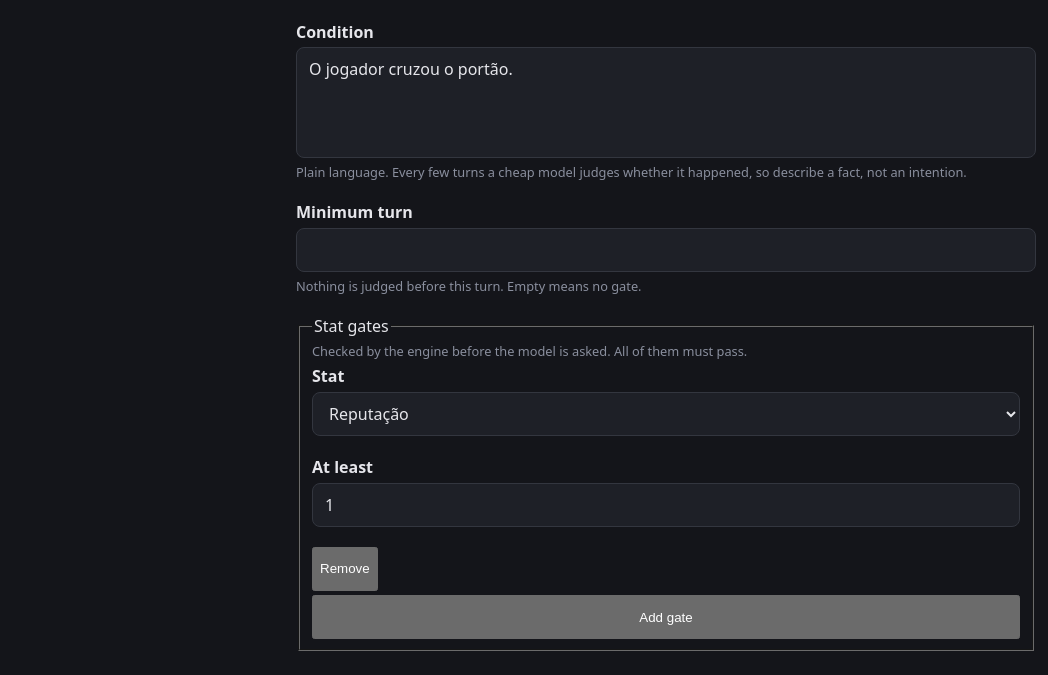
Test: AchievementsTab › pending text for a gate in one start is not shared with the same position in another start
This screenshot has width=1048, height=675.
(page scrolled)
Replace the text in the number field labelled "At least" with "abc": (666, 504) [312,482,1020,526]
(page scrolled)
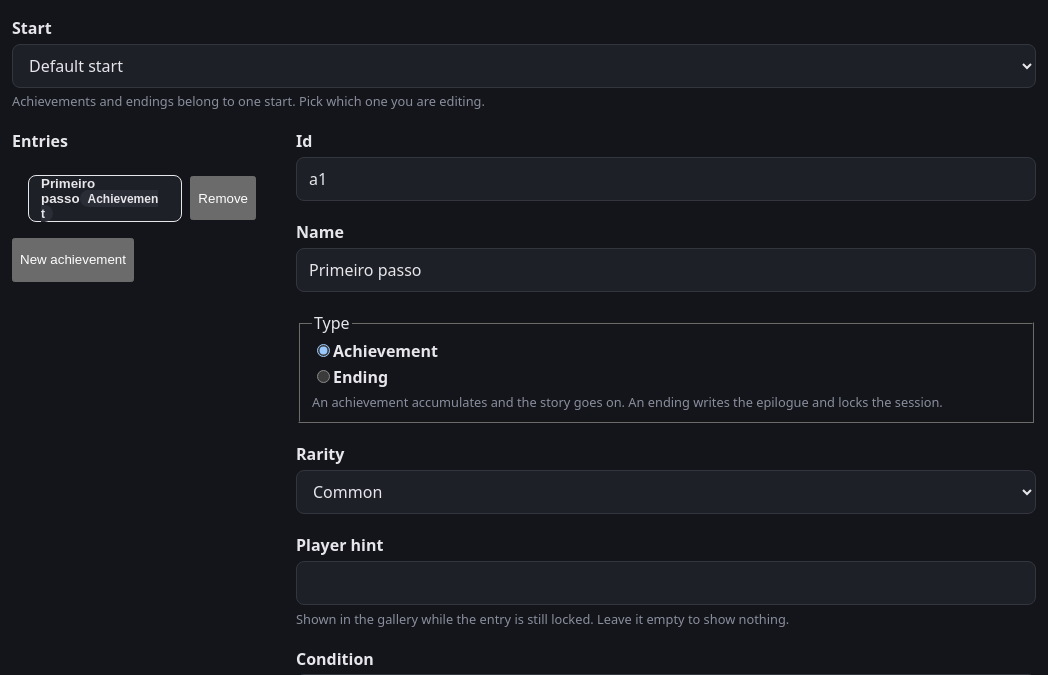
Select "Other start" in the dropdown labelled "Start": (524, 66) [12,44,1036,88]
(page scrolled)
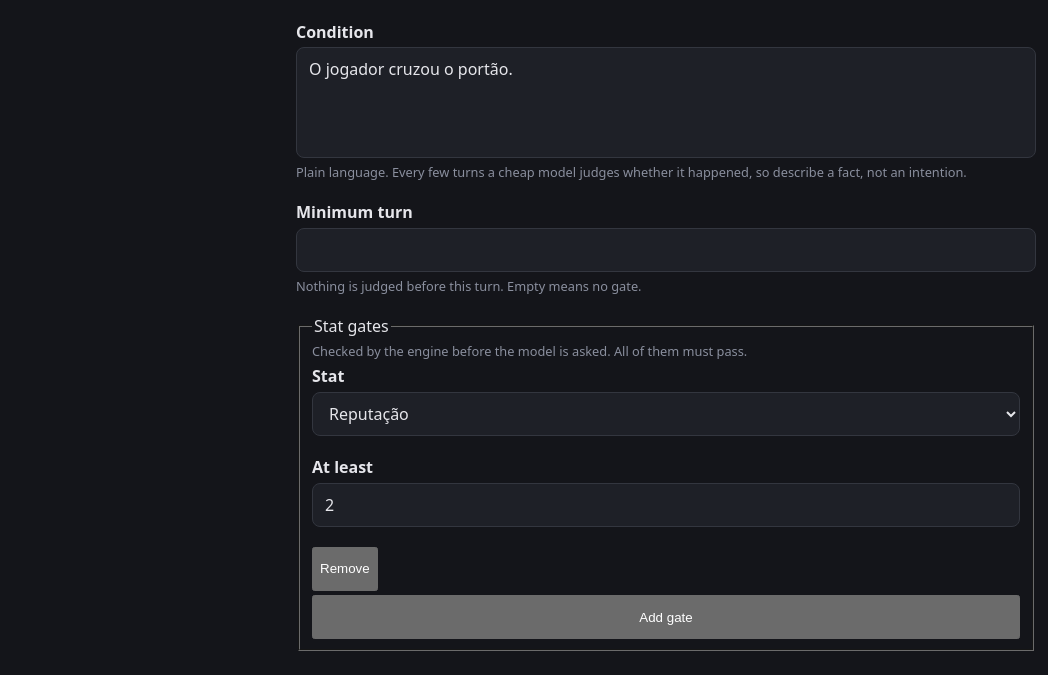
Expected: the number field labelled "At least" holds "2", [312,482,1020,526]
